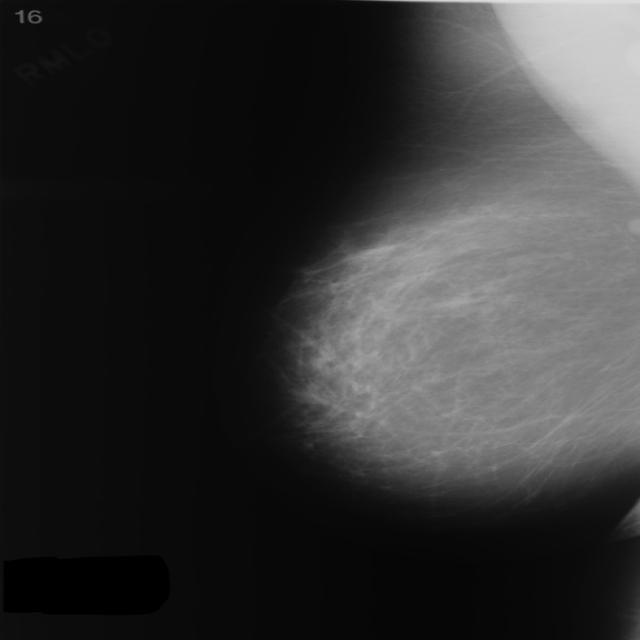tumour: (624, 218, 639, 236)
